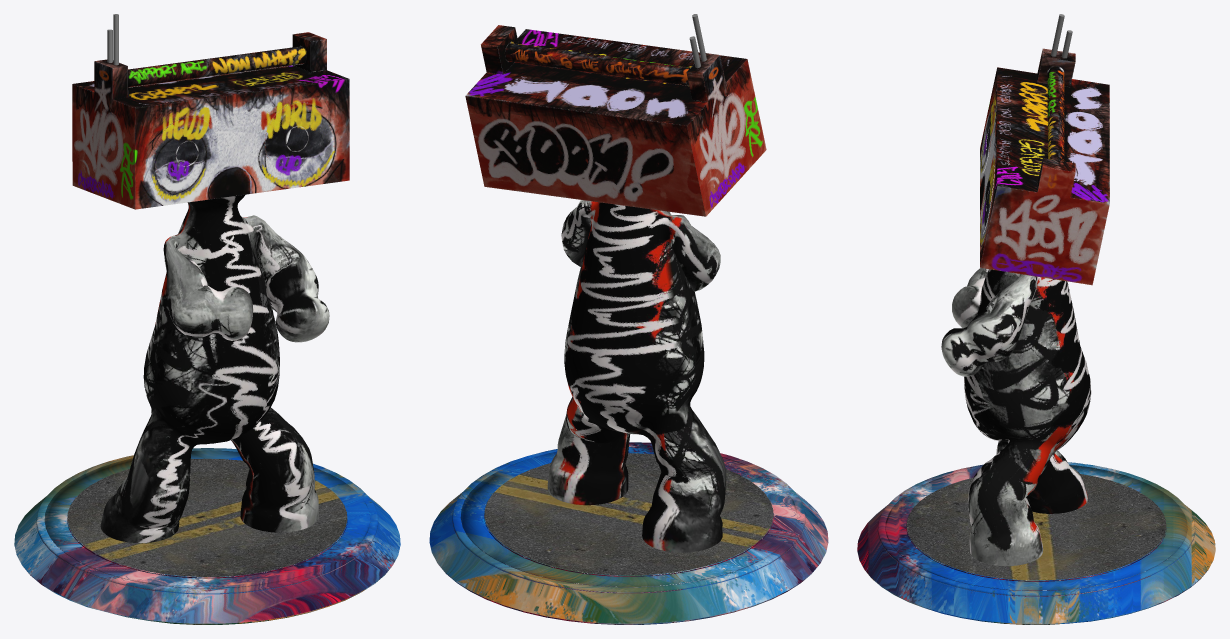
The picture shows the model from 3 angles, left to right: view 1: azimuth 30°, elevation 25°; view 2: azimuth 150°, elevation 25°; view 3: azimuth 270°, elevation 25°; orthographic projection. The views are drawn at different scales.
Parts seen in each view (by area): view 1: BBody; view 2: BBody; view 3: BBody.
Part boxes in pixels (box(x1,y1,x2,y2)): BBody: box(14, 14, 400, 624); BBody: box(429, 14, 828, 624); BBody: box(857, 14, 1215, 624).
Bounding box in the file's own units: 1.45 × 2.23 × 1.45.
5 materials, 4 textured.
